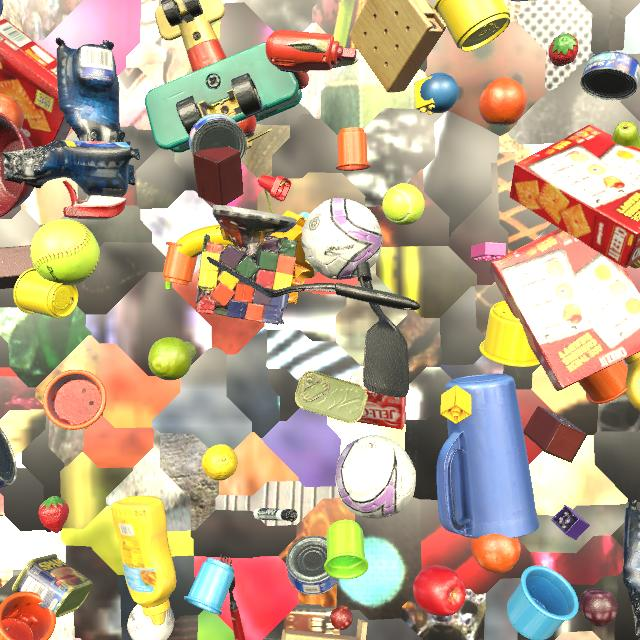ycb_002_master_chef_can: (0, 428, 17, 488), (0, 0, 3, 17)
ycb_003_cracker_box: (489, 228, 640, 391), (510, 125, 640, 268), (0, 19, 71, 148)
ycb_006_mustard_bottle: (111, 495, 176, 625), (624, 352, 640, 411), (630, 259, 640, 269)
ycb_007_tuna_fish_can: (286, 536, 339, 595), (580, 51, 640, 100), (189, 113, 247, 162)
ycb_009_gelatin_box: (349, 375, 406, 430)
ycb_010_potted_meat_can: (12, 554, 92, 617), (295, 371, 368, 423)
ycb_011_banana: (165, 225, 233, 290)
ycb_012_strawberry: (39, 496, 69, 533), (548, 33, 579, 67)
ycb_013_apple: (413, 565, 466, 616)
ycb_014_lemon: (202, 444, 238, 481)
ycb_016_pear: (148, 337, 196, 380), (612, 121, 640, 149)
ycb_017_orange: (479, 77, 527, 126), (471, 534, 521, 574), (0, 94, 24, 130)
ycb_018_plum: (580, 588, 618, 627)
